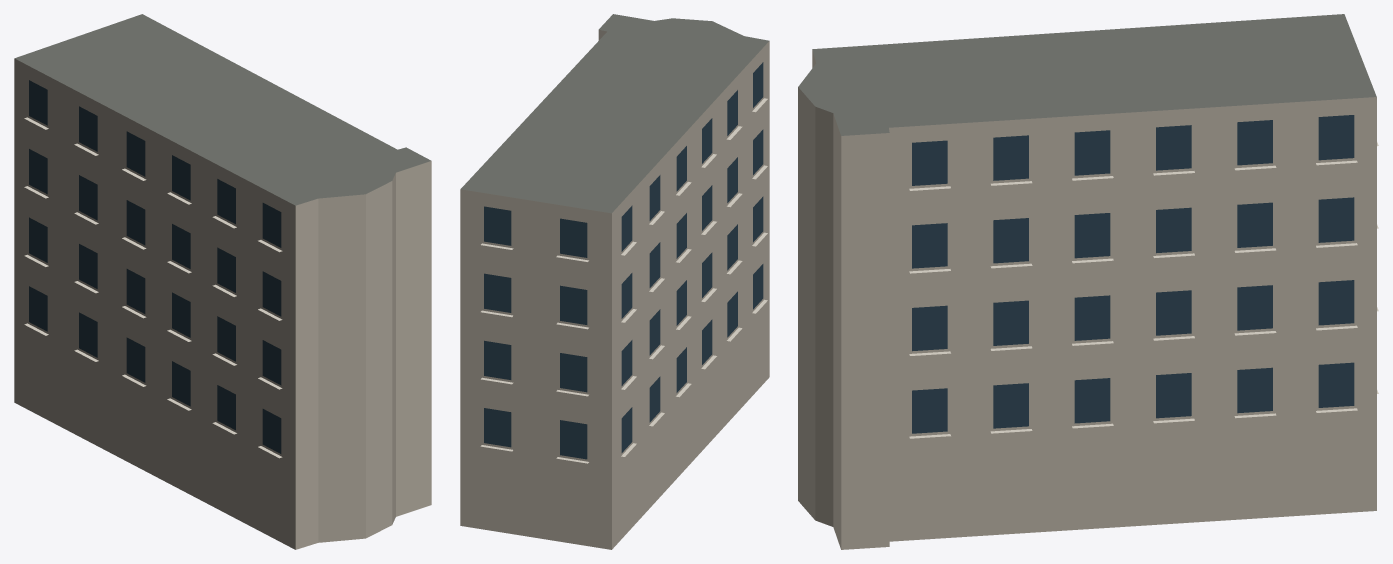
3 renders of one model, left to right at view 1: azimuth 30°, elevation 25°; view 2: azimuth 150°, elevation 25°; view 3: azimuth 270°, elevation 25°, orthographic. The views are drawn at different scales.
Parts seen in each view (by area): view 1: Footprint 0, Inferred window bays, Window sills; view 2: Footprint 0, Inferred window bays, Window sills; view 3: Footprint 0, Inferred window bays, Window sills.
Boxes of the visible parts, x1,y1,x2,y2 form: Footprint 0: (14,14,431,549); Inferred window bays: (29,80,281,453); Window sills: (24,117,282,458); Footprint 0: (460,14,769,549); Inferred window bays: (484,62,763,459); Window sills: (480,98,767,463); Footprint 0: (798,14,1376,549); Inferred window bays: (912,115,1354,433); Window sills: (909,142,1378,438).
Bounding box in the file's own units: 10.07 × 15.79 × 20.07.
